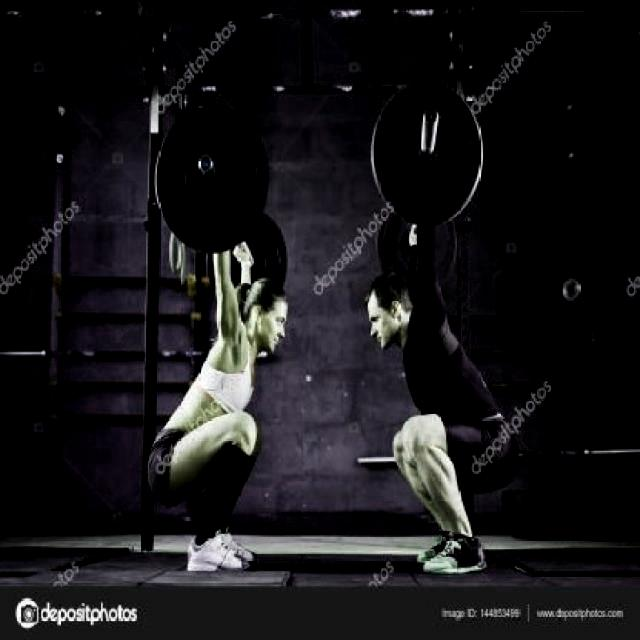barbell: (155, 98, 275, 262), (369, 81, 490, 235)
